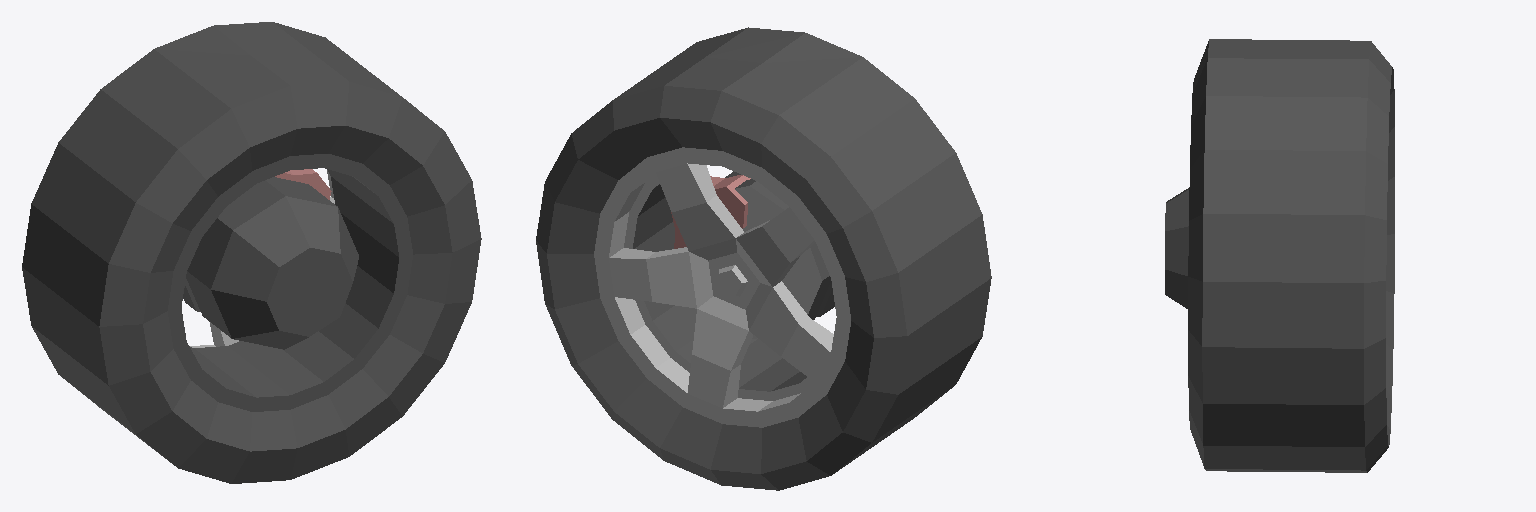
The picture shows the model from 3 angles: view 1: azimuth 30°, elevation 25°; view 2: azimuth 150°, elevation 25°; view 3: azimuth 270°, elevation 25°; orthographic projection.
Visible parts, largest first — view 1: Carro_llanta_Material.007, Carro_llanta_Material.008, Carro_llanta_Material; view 2: Carro_llanta_Material.007, Carro_llanta_Material.005, Carro_llanta_Material.008, Carro_llanta_Material.004, Carro_llanta_Material.006, Carro_llanta_Material, Carro_llanta_Material.003; view 3: Carro_llanta_Material.007, Carro_llanta_Material.008.
Part boxes in pixels (bbox=[...]): Carro_llanta_Material.007: bbox=[22, 22, 481, 451]; Carro_llanta_Material.008: bbox=[22, 126, 481, 483]; Carro_llanta_Material: bbox=[275, 173, 331, 199]; Carro_llanta_Material.007: bbox=[536, 27, 991, 473]; Carro_llanta_Material.005: bbox=[594, 147, 850, 427]; Carro_llanta_Material.008: bbox=[536, 118, 991, 490]; Carro_llanta_Material.004: bbox=[609, 163, 833, 411]; Carro_llanta_Material.006: bbox=[735, 179, 830, 319]; Carro_llanta_Material: bbox=[671, 187, 744, 248]; Carro_llanta_Material.003: bbox=[710, 175, 750, 227]; Carro_llanta_Material.007: bbox=[1165, 39, 1394, 445]; Carro_llanta_Material.008: bbox=[1188, 67, 1394, 472].
Bounding box in the file's own units: 0.9078 × 0.9 × 0.477.
7 materials, 3 textured.